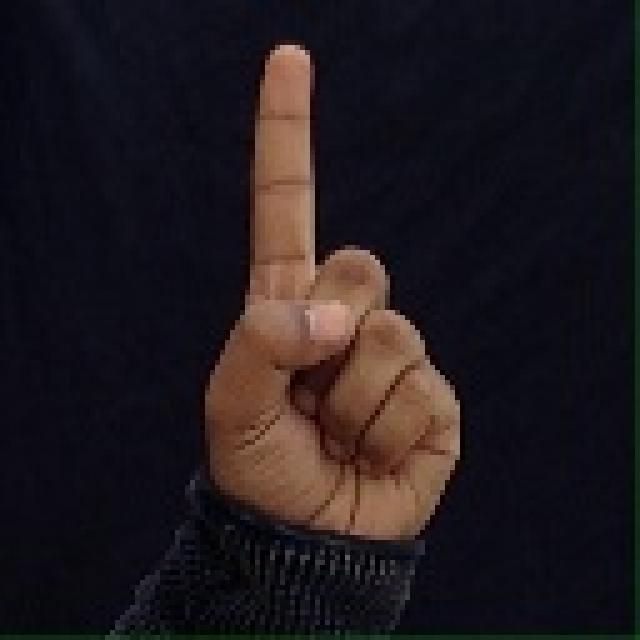Numeric-1: (204, 41, 469, 554)
